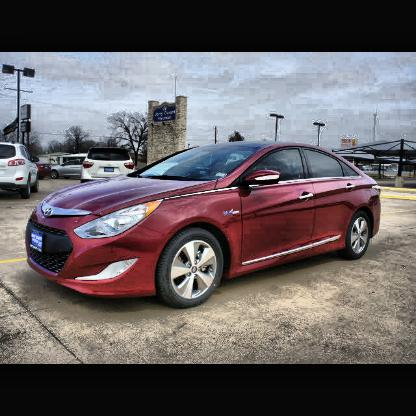Hyundai Sonata Hybrid Sedan 2012: (26, 141, 382, 308)
